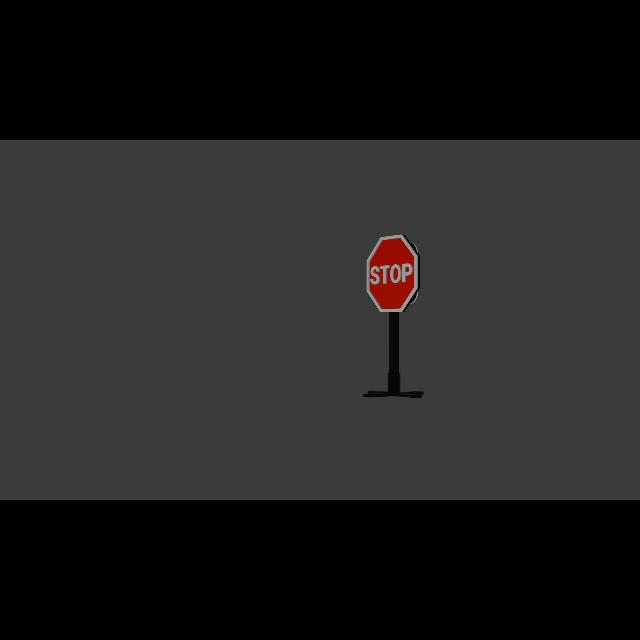sign_stop: (368, 236, 419, 312)
